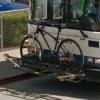Bicycle: (18, 14, 87, 81)
